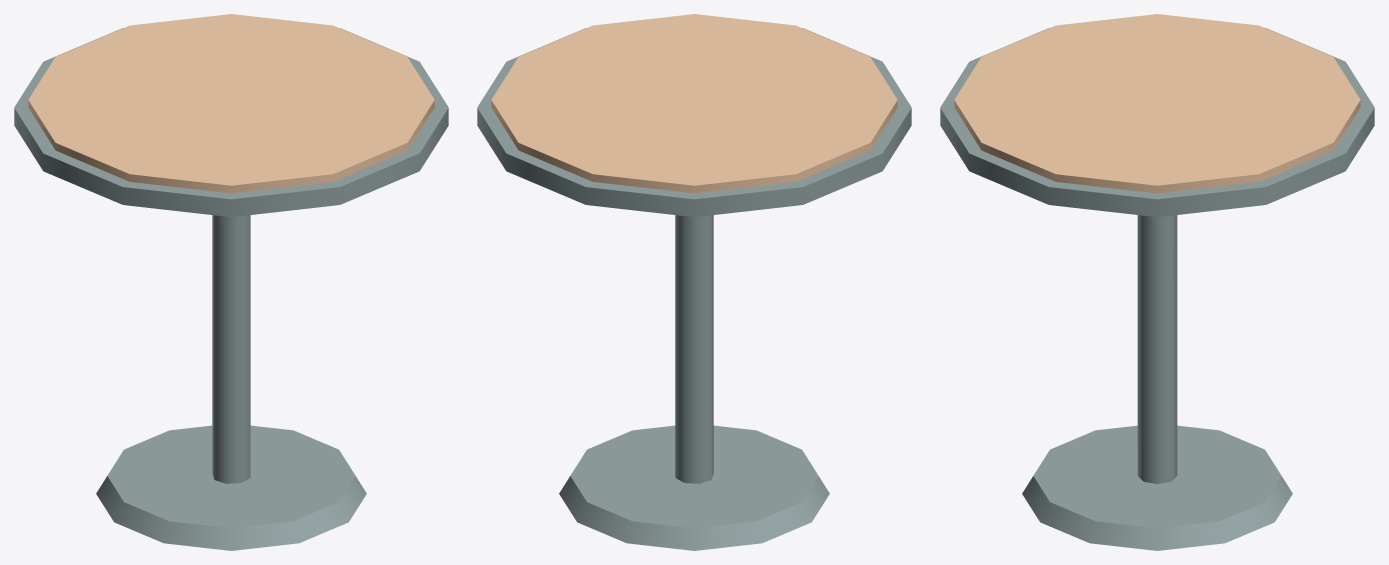
The model's file is diningBistro.glb.
3 renders of one model, left to right at view 1: azimuth 30°, elevation 25°; view 2: azimuth 150°, elevation 25°; view 3: azimuth 270°, elevation 25°, orthographic.
Visible parts, largest first — view 1: diningBistro; view 2: diningBistro; view 3: diningBistro.
Part boxes in pixels (x1,y1,x2,y2): diningBistro: (14,14,448,550); diningBistro: (477,14,911,550); diningBistro: (940,14,1374,550).
Size of the model in its own units: 0.385 by 0.385 by 0.385.
